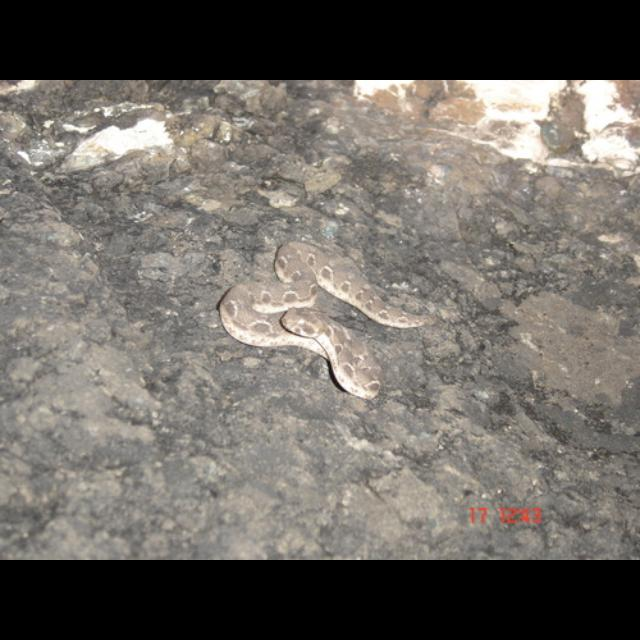snake: (217, 240, 427, 400)
